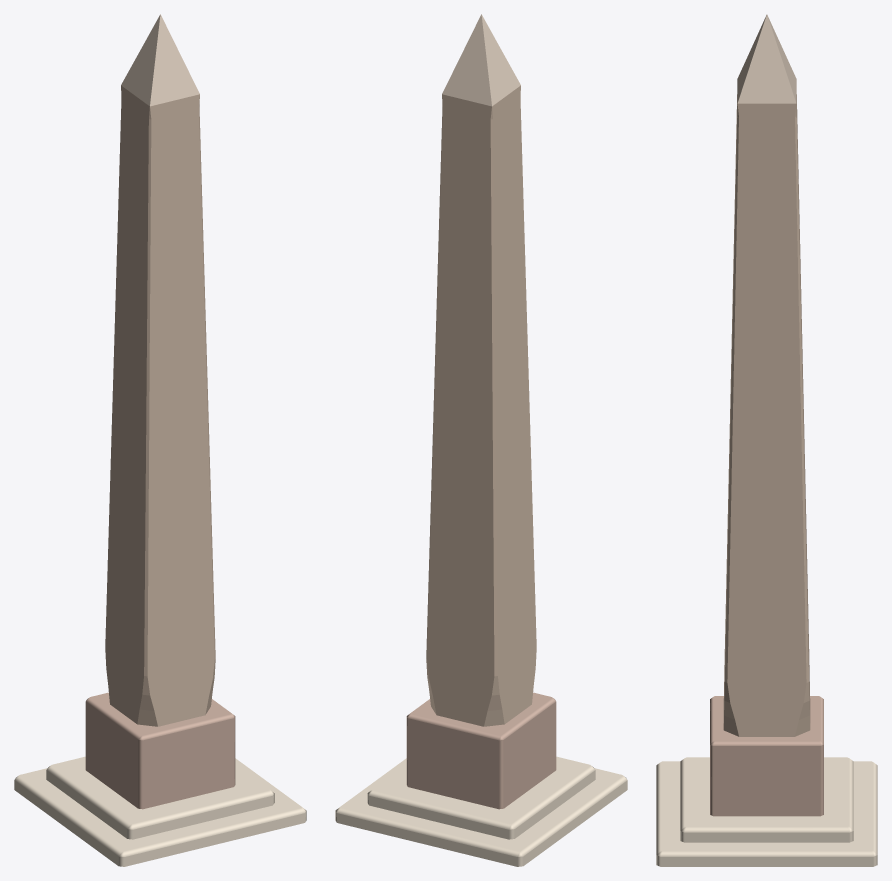
File: nyc-cleopatras-needle.glb
The picture shows the model from 3 angles, left to right: view 1: azimuth 30°, elevation 25°; view 2: azimuth 150°, elevation 25°; view 3: azimuth 270°, elevation 25°; orthographic projection.
Visible parts, largest first — view 1: Cleopatra's Needle; view 2: Cleopatra's Needle; view 3: Cleopatra's Needle.
Boxes of the visible parts, x1,y1,x2,y2 form: Cleopatra's Needle: (14, 14, 306, 866); Cleopatra's Needle: (335, 14, 627, 866); Cleopatra's Needle: (656, 14, 877, 866).
Size of the model in its own units: 6 by 24.12 by 6.
